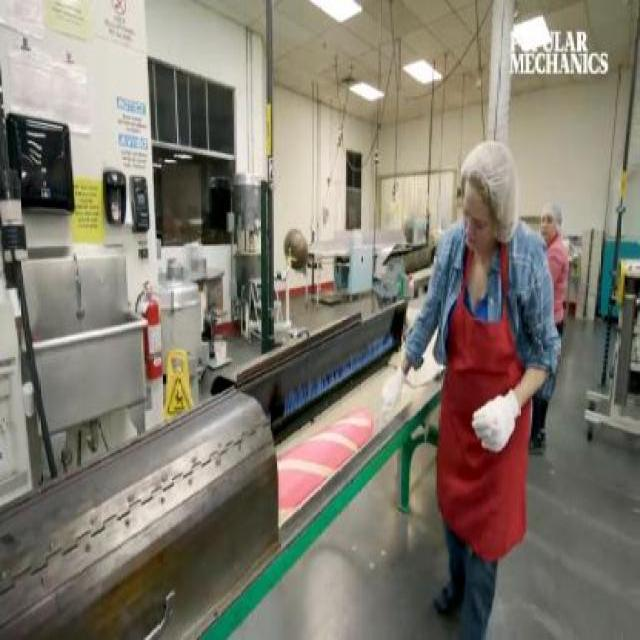hairnet: (461, 140, 521, 217), (538, 201, 564, 228)
